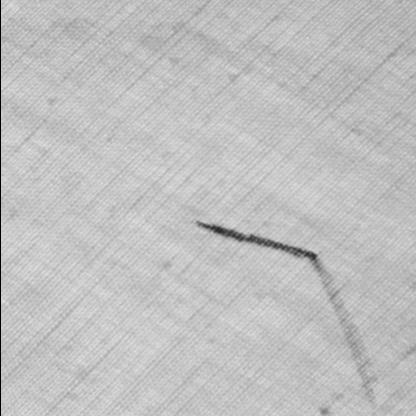oil spot: (310, 258, 378, 414), (190, 220, 317, 262)
